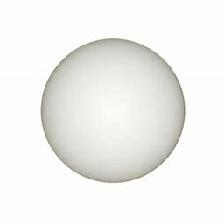WhiteBall: (39, 37, 184, 182)
